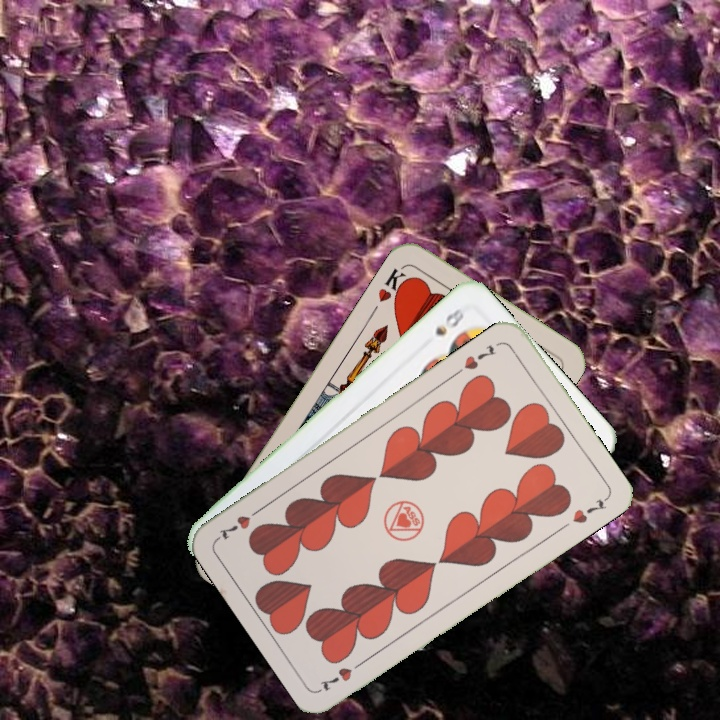H7: (316, 655, 369, 694), (460, 341, 499, 373)
HK: (374, 264, 414, 306)
S8: (431, 304, 467, 339)
